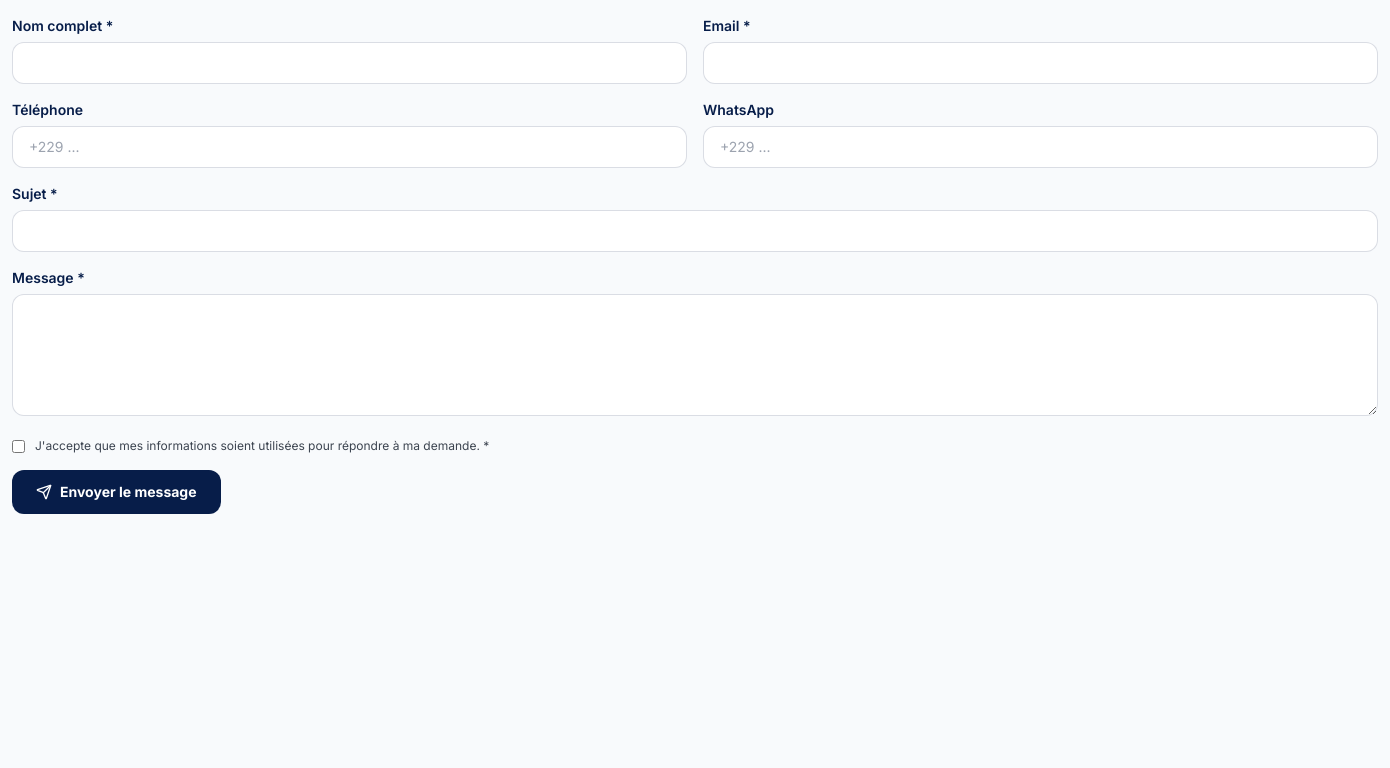
it: Site vitrine - formulaire de contact › affiche les erreurs backend (ex: honeypot ou validation)
In the field labelled "Nom complet *": point(350, 63) [12,42,687,84], type "Jean"
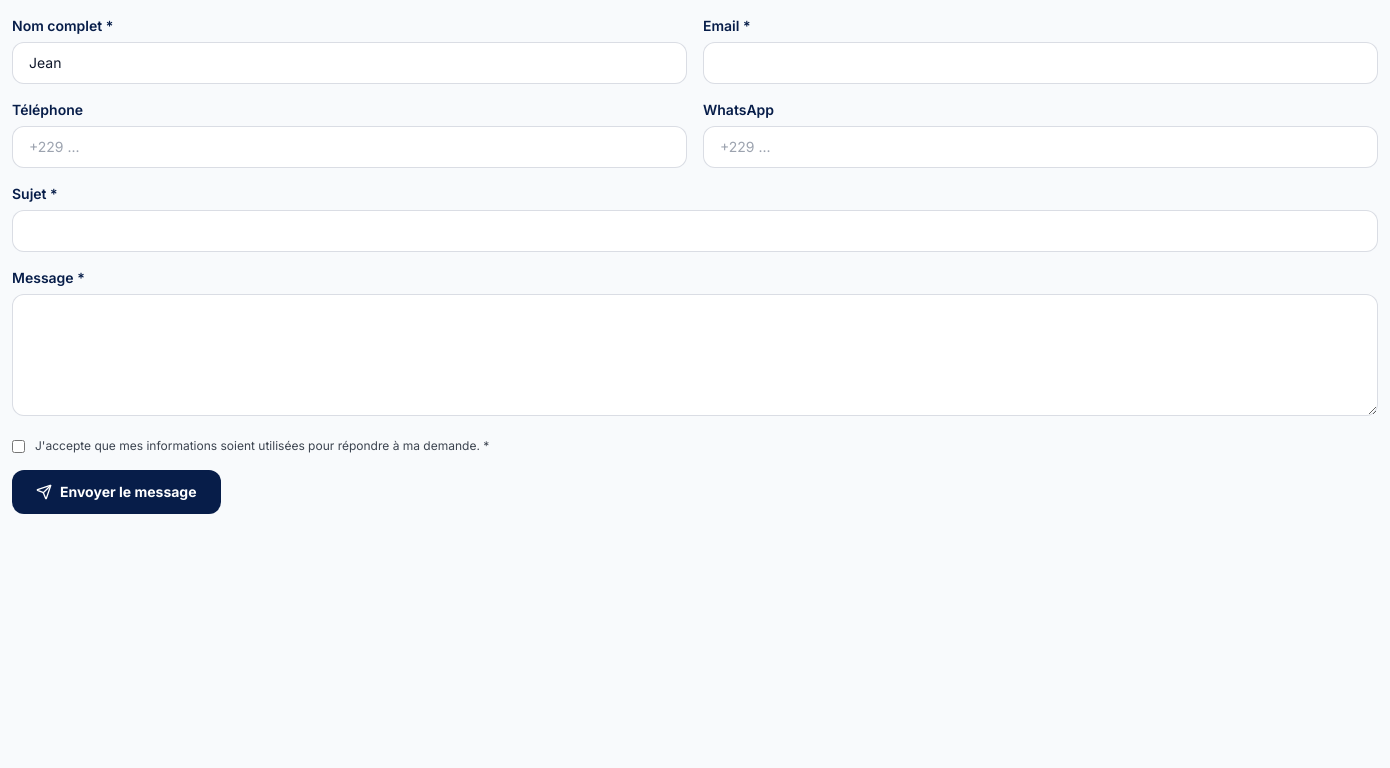
In the field labelled "Email *": point(1040, 63) [703,42,1378,84], type "a@b.cd"
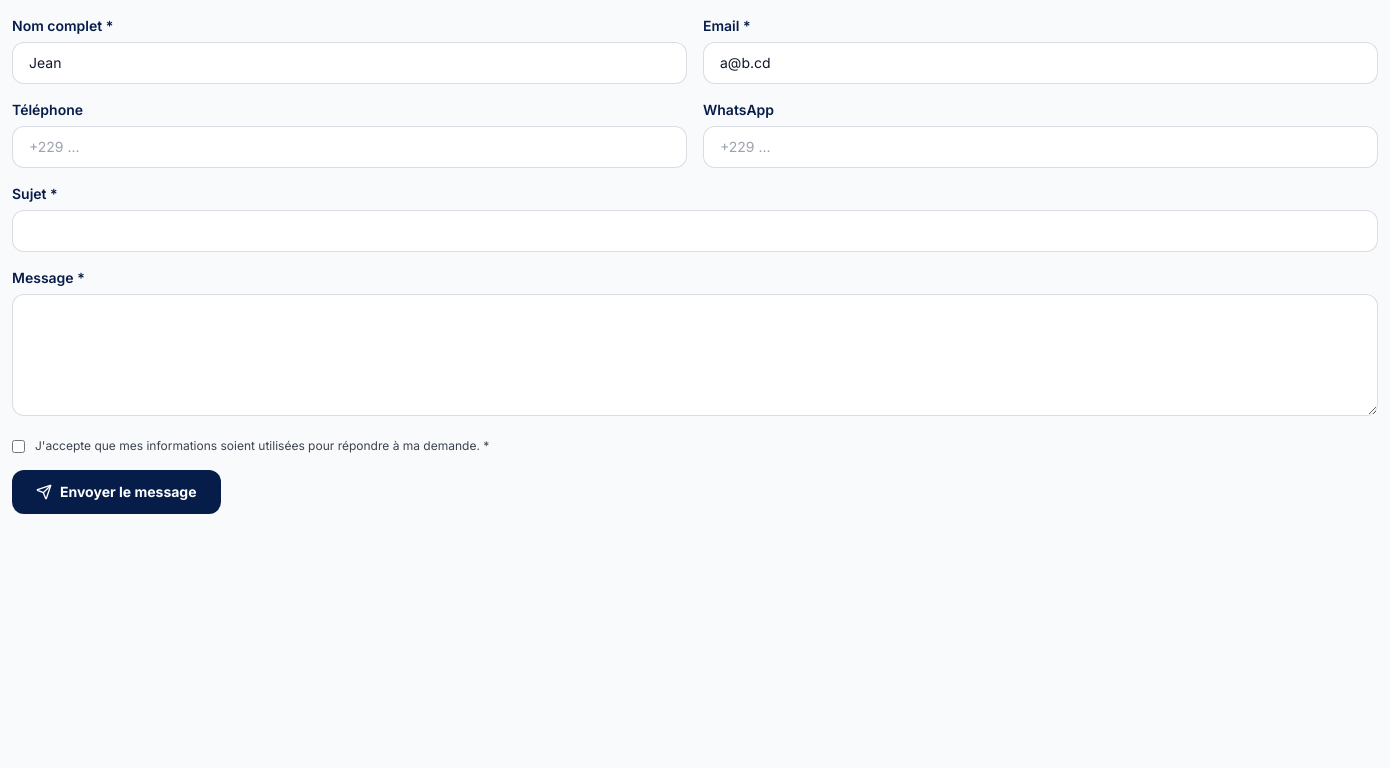
In the field labelled "Sujet *": point(695, 231) [12,210,1378,252], type "X"
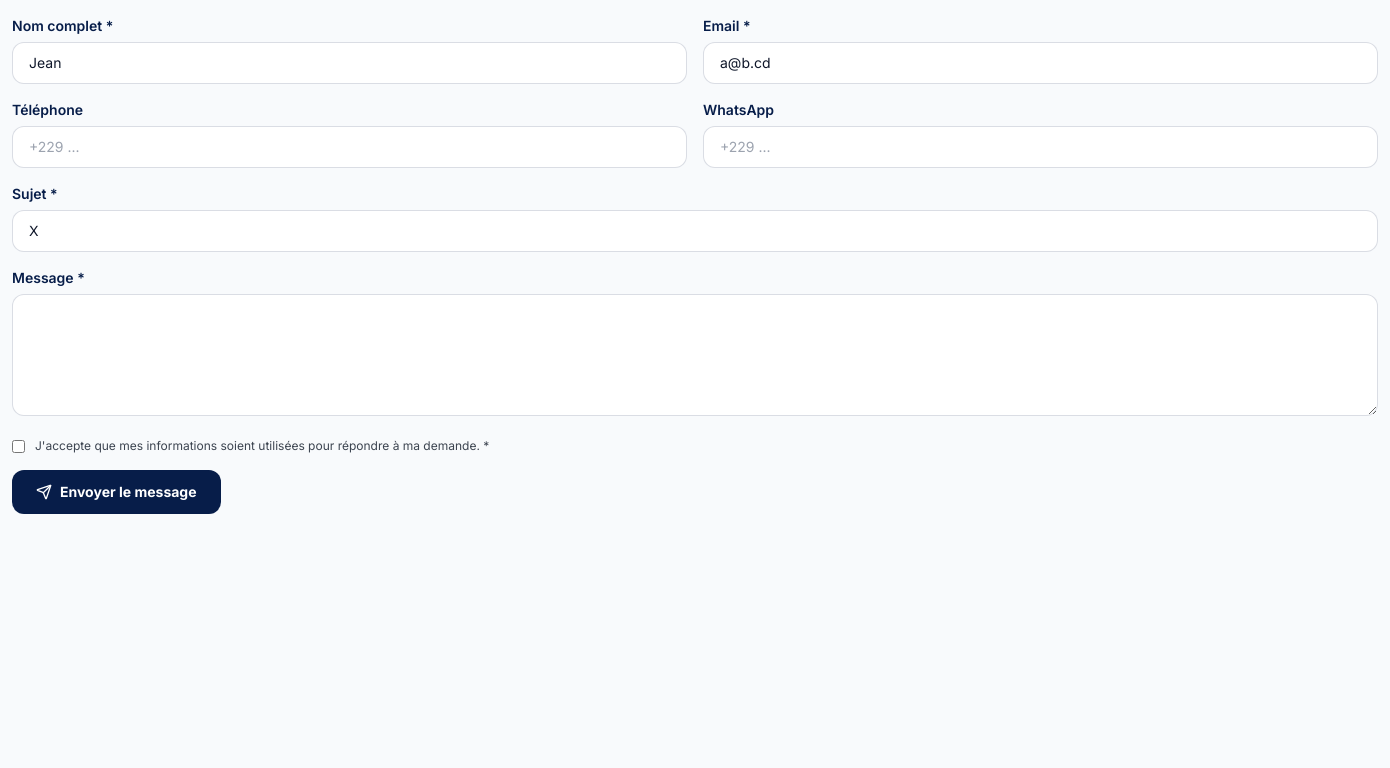
In the text box labelled "Message *": point(695, 355) [12,294,1378,416], type "Y"
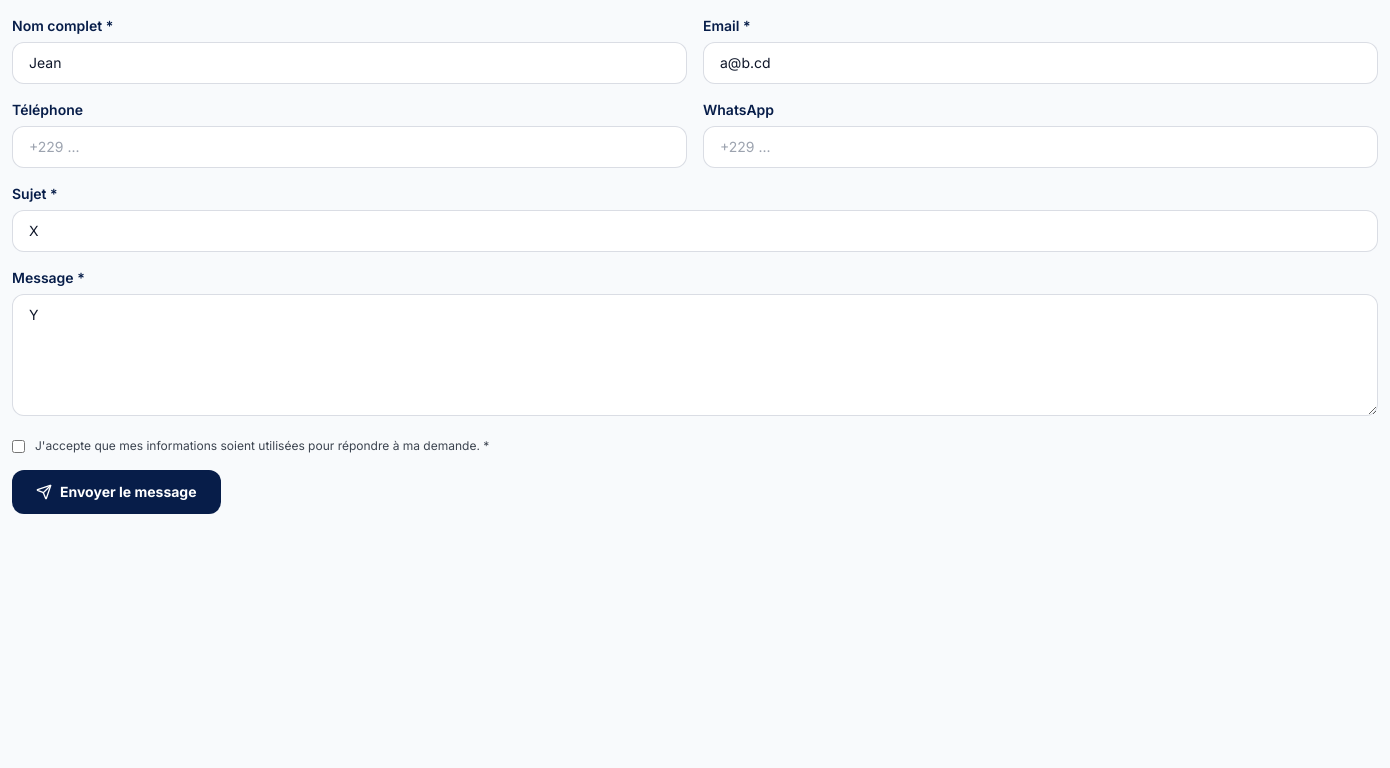
Click the checkbox labelled "J'accepte que mes informations": point(18, 446) [12,440,25,453]
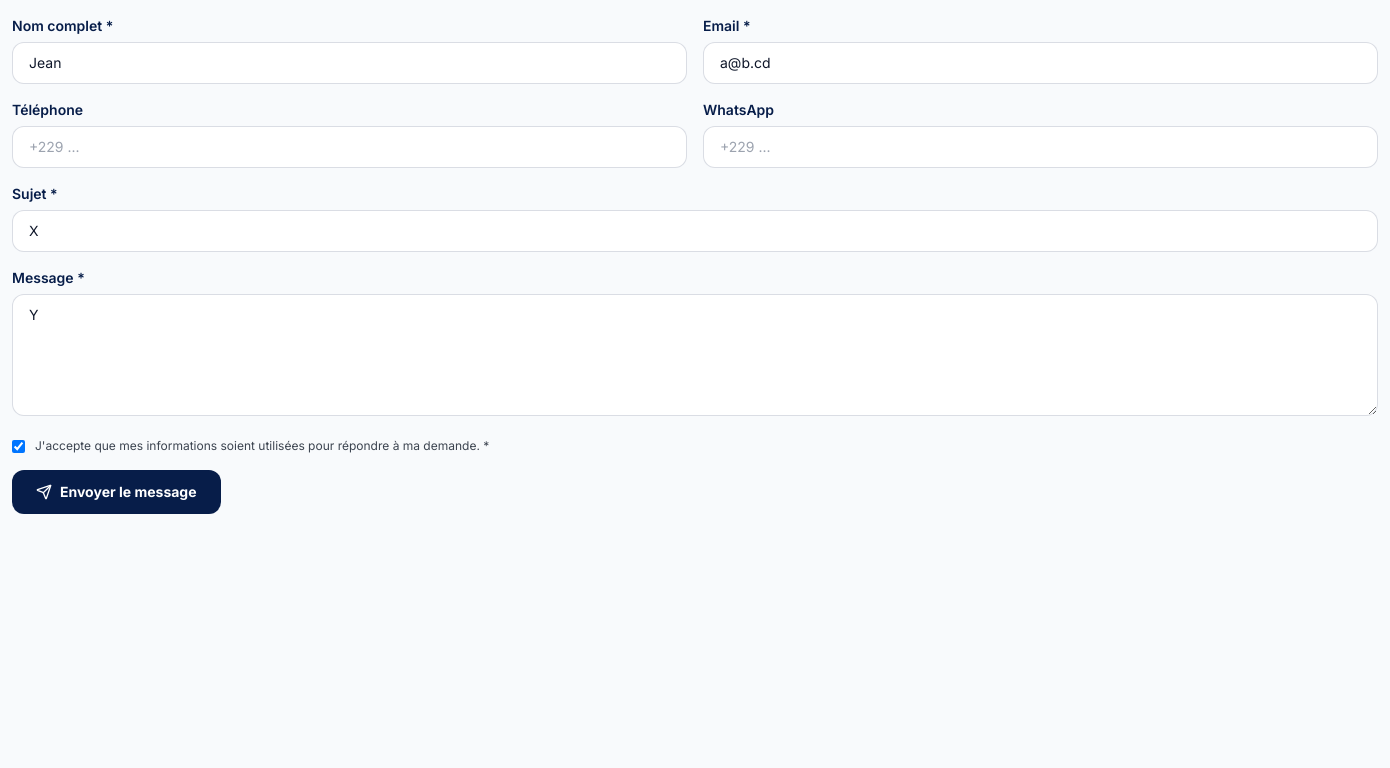
Click the button "Envoyer le message": point(116, 492) [12,470,221,514]
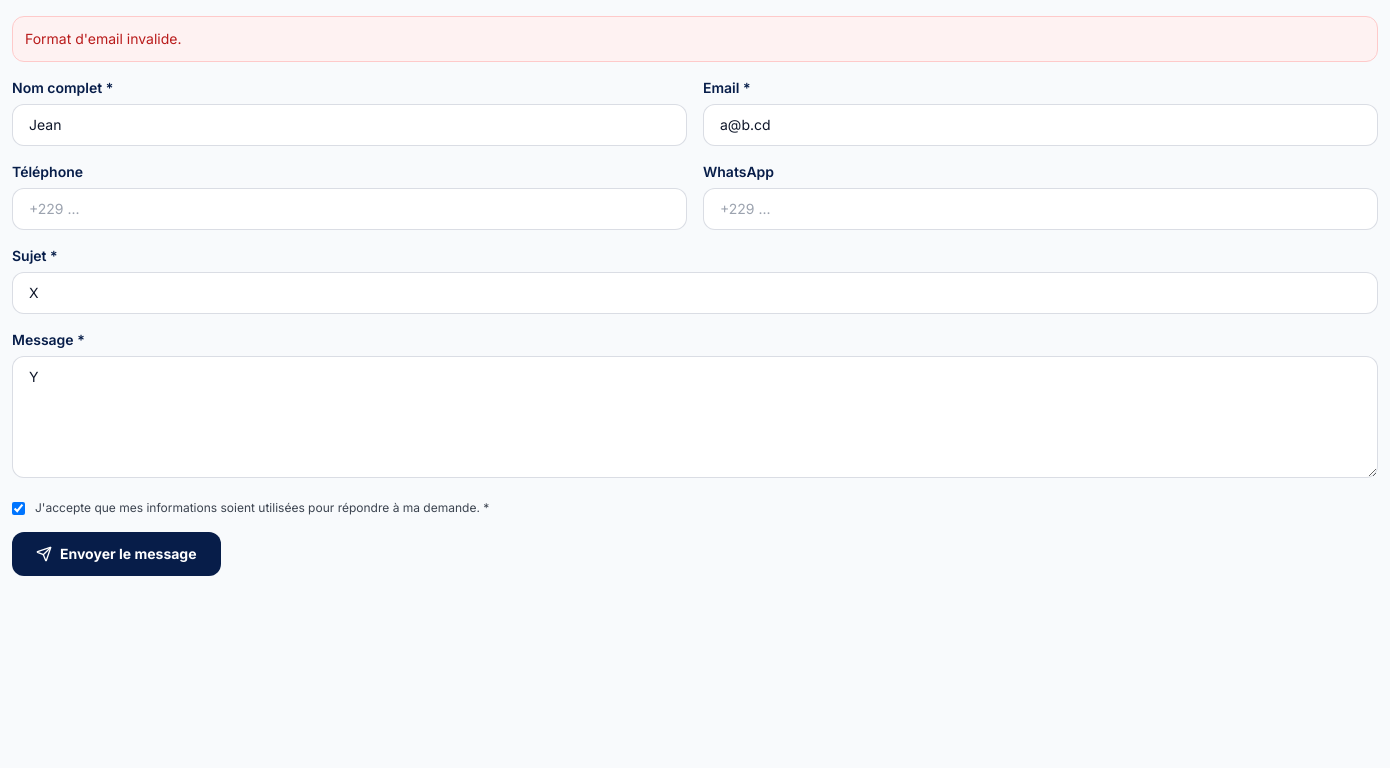
Expected: the text "Format d'email invalide." is shown, [25,30,182,47]
